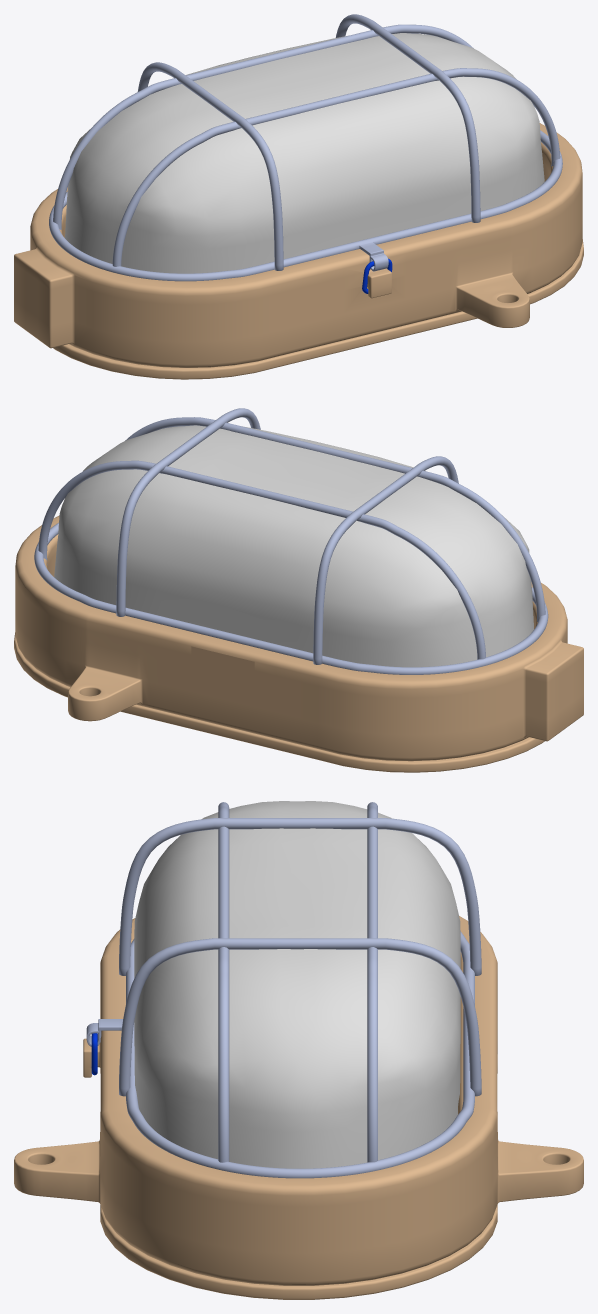
The model's file is lamp.FBX.
3 renders of one model, top to bottom at view 1: azimuth 30°, elevation 25°; view 2: azimuth 150°, elevation 25°; view 3: azimuth 270°, elevation 25°, orthographic. The views are drawn at different scales.
Parts seen in each view (by area): view 1: lamp; view 2: lamp; view 3: lamp.
Boxes of the visible parts, x1,y1,x2,y2 form: lamp: (14,14,583,379); lamp: (14,408,583,772); lamp: (14,801,583,1299).
Bounding box in the file's own units: 58.32 × 22.38 × 43.34.
